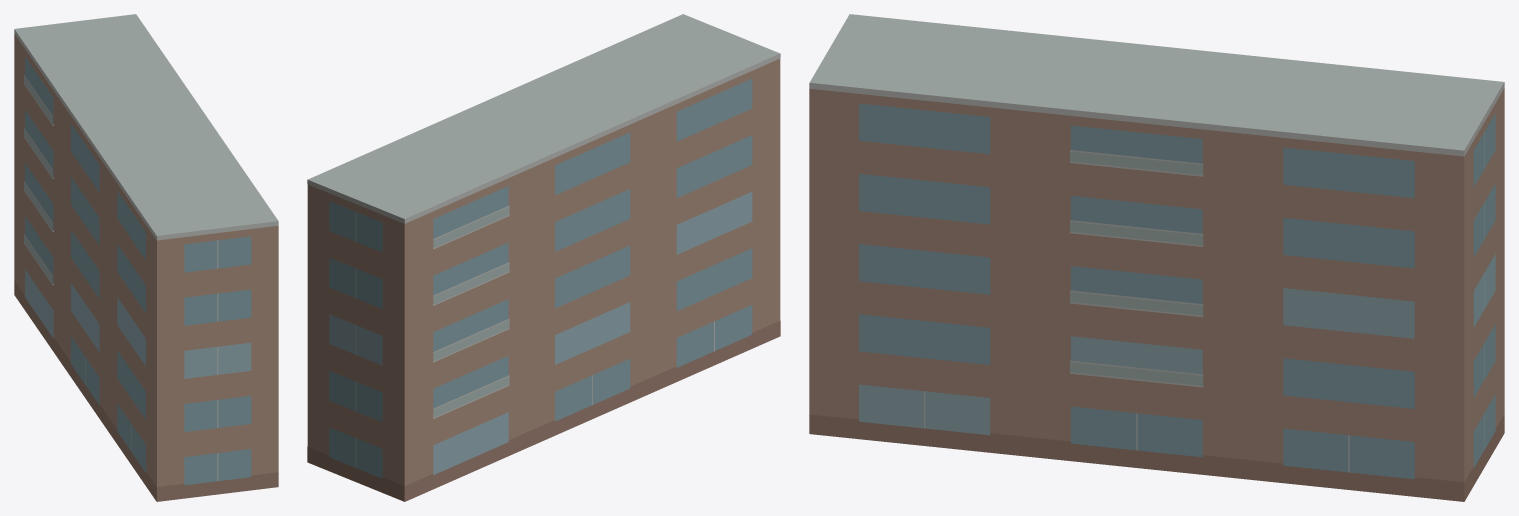
File: survey-upis-33045633.glb
3 renders of one model, left to right at view 1: azimuth 30°, elevation 25°; view 2: azimuth 150°, elevation 25°; view 3: azimuth 270°, elevation 25°, orthographic. The views are drawn at different scales.
Visible parts, largest first — view 1: survey-upis-33045633.tmp; view 2: survey-upis-33045633.tmp; view 3: survey-upis-33045633.tmp.
Boxes of the visible parts, box(x1,y1,x2,y2) form: survey-upis-33045633.tmp: box(14, 14, 278, 501); survey-upis-33045633.tmp: box(307, 14, 780, 501); survey-upis-33045633.tmp: box(809, 14, 1504, 501).
Size of the model in its own units: 12.03 by 14.4 by 25.84.
